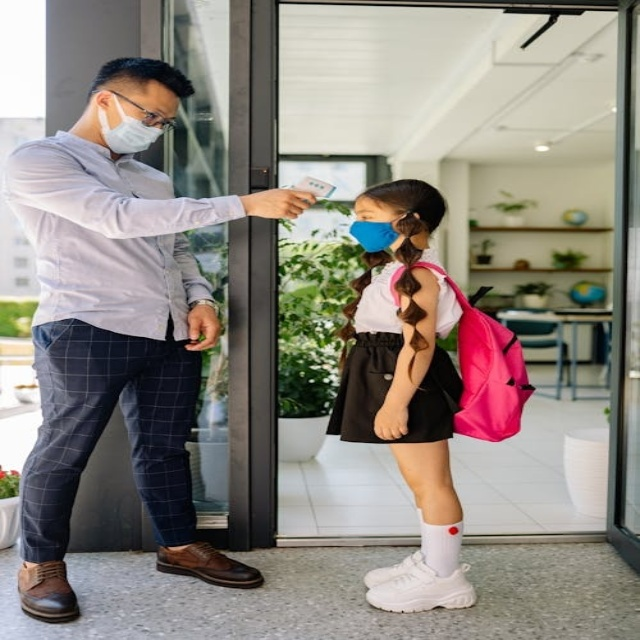Gafas: (96, 89, 178, 132)
Mascara: (96, 93, 167, 154), (349, 217, 406, 253)
Sin_gafas: (352, 207, 389, 222)
Sin_guantes: (234, 181, 319, 224), (178, 299, 230, 354), (367, 399, 413, 440)
